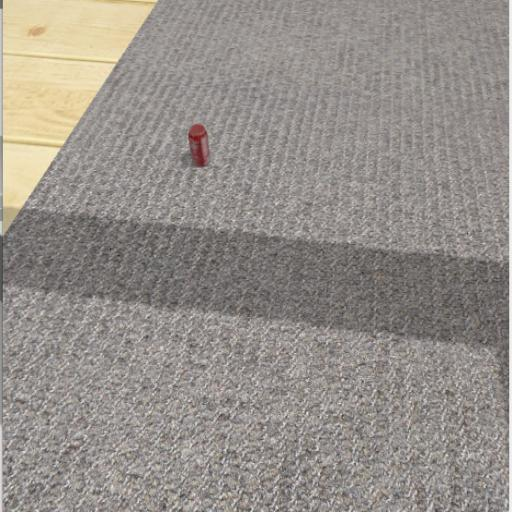COCA: (144, 71, 258, 219)
